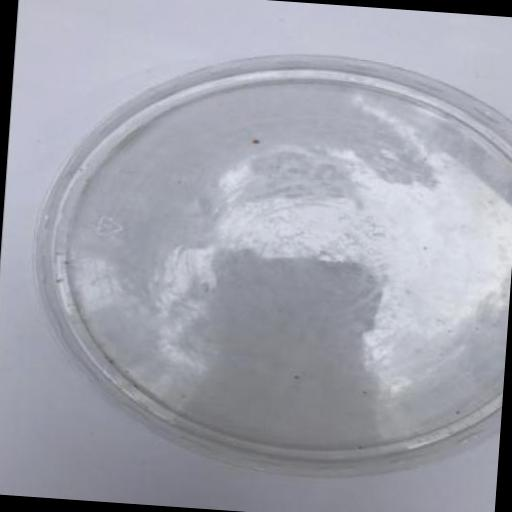plastic: (15, 33, 512, 488)
